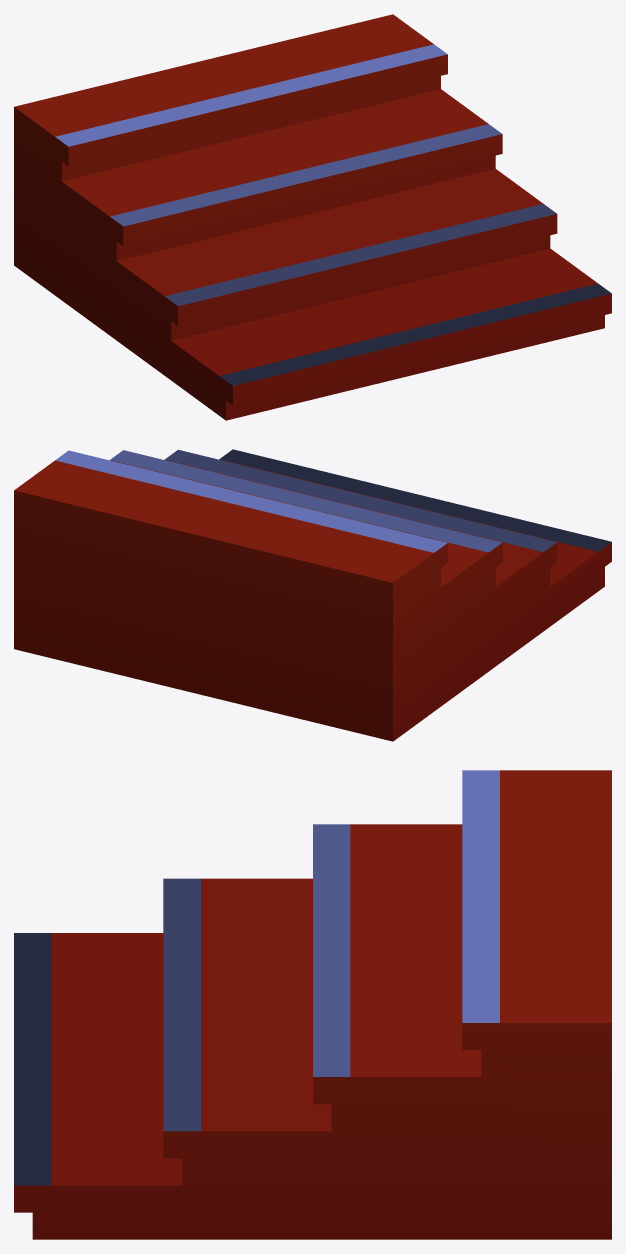
File: steps.fbx
3 renders of one model, top to bottom at view 1: azimuth 30°, elevation 25°; view 2: azimuth 150°, elevation 25°; view 3: azimuth 270°, elevation 25°, orthographic. The views are drawn at different scales.
Parts seen in each view (by area): view 1: steps; view 2: steps; view 3: steps.
Boxes of the visible parts, x1=… form: steps: x1=14, y1=14, x2=611, y2=420; steps: x1=14, y1=449, x2=611, y2=741; steps: x1=14, y1=770, x2=611, y2=1239.
Bounding box in the file's own units: 10 × 4 × 10.
